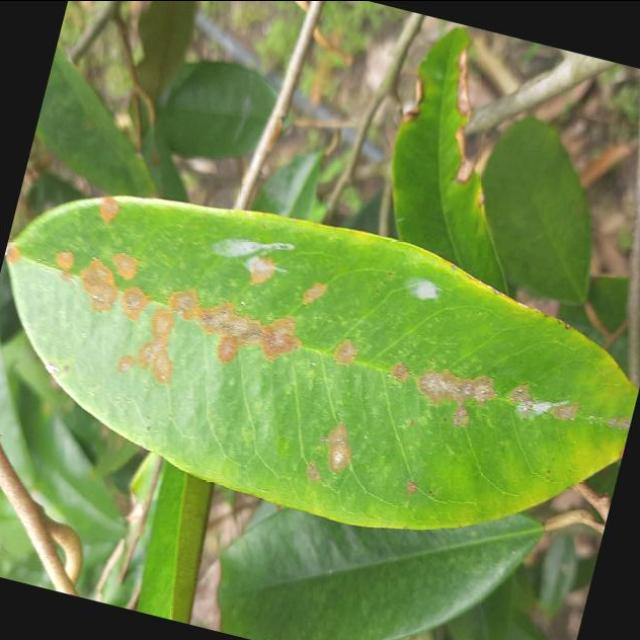Algal Leaf Spot: (0, 138, 640, 592)
